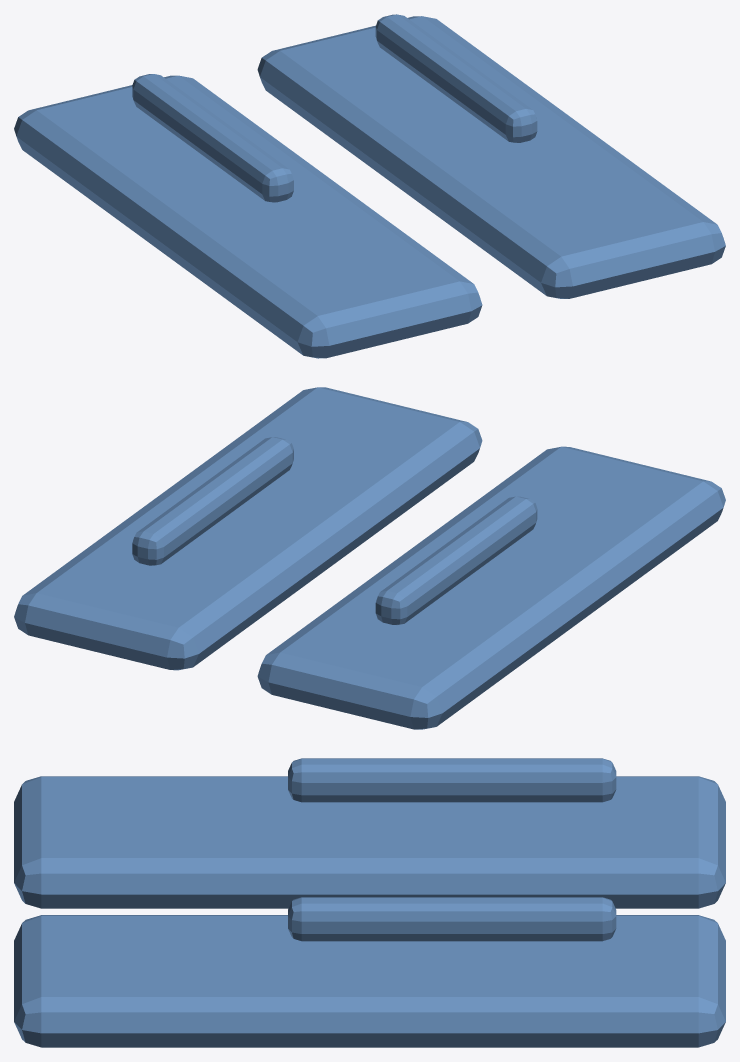
Rendered from dec_slippers.glb.
3 views of the same model, one above another, from view 1: azimuth 30°, elevation 25°; view 2: azimuth 150°, elevation 25°; view 3: azimuth 270°, elevation 25° (orthographic). The views are drawn at different scales.
Parts seen in each view (by area): view 1: dec_slippers; view 2: dec_slippers; view 3: dec_slippers.
Part boxes in pixels (x1,y1,x2,y2): dec_slippers: [14, 14, 725, 358]; dec_slippers: [14, 387, 725, 729]; dec_slippers: [14, 758, 725, 1047].
Size of the model in its own units: 0.21 by 0.0425 by 0.26.
